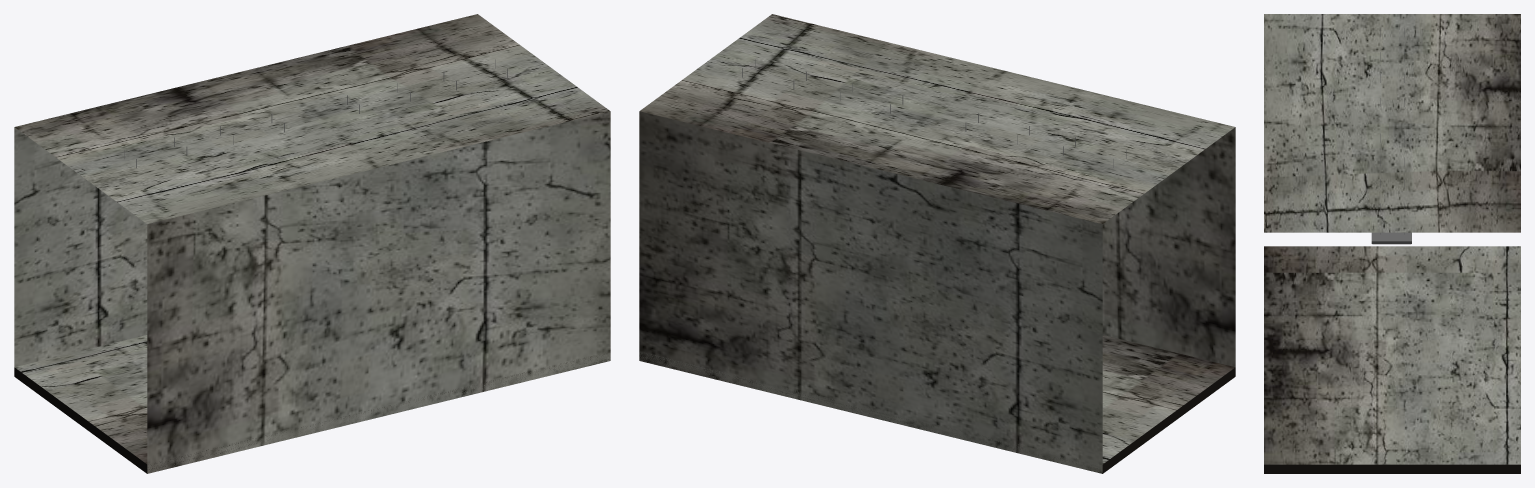
The model's file is cubePasillo.glb.
3 views of the same model, side by side, from view 1: azimuth 30°, elevation 25°; view 2: azimuth 150°, elevation 25°; view 3: azimuth 270°, elevation 25° (orthographic). The views are drawn at different scales.
Visible parts, largest first — view 1: Cube.003; view 2: Cube.003; view 3: Cube.003.
Part boxes in pixels (x1,y1,x2,y2): Cube.003: [14, 14, 610, 473]; Cube.003: [639, 14, 1235, 473]; Cube.003: [1264, 14, 1520, 473].
Size of the model in its own units: 10.07 by 5.38 by 5.
Materials: 3 (3 with a texture image).
